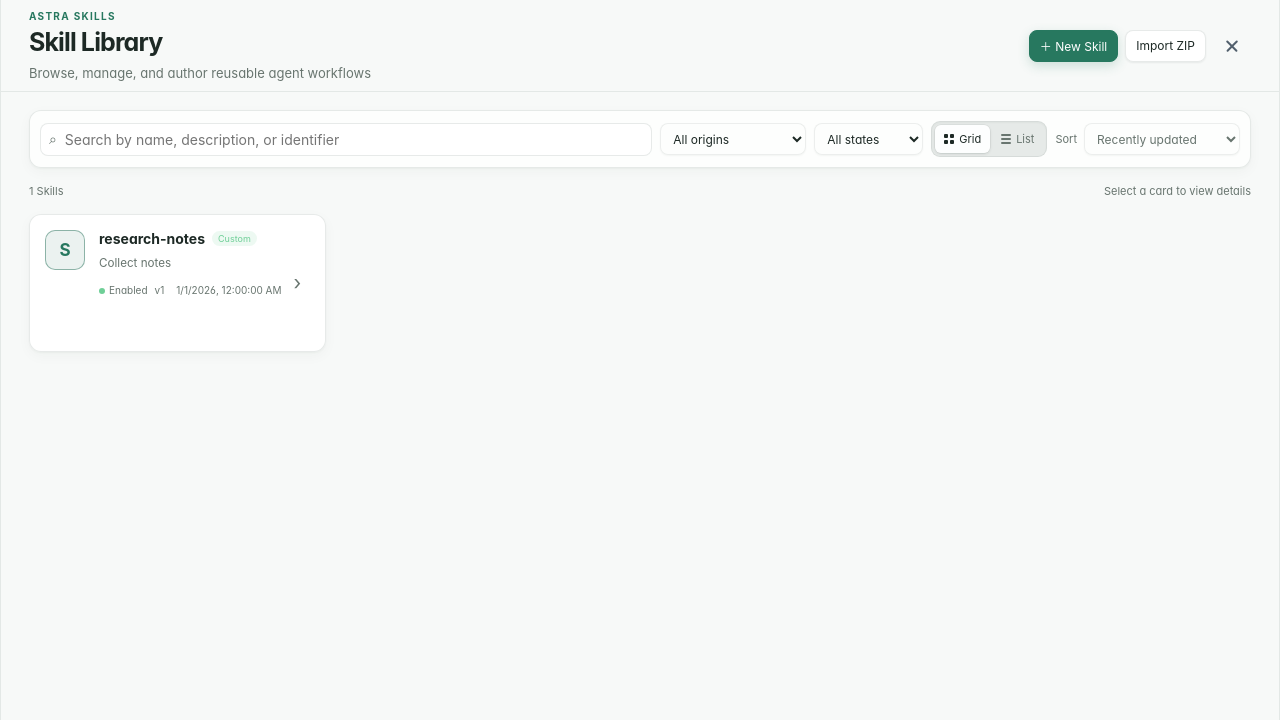
Test: SkillWorkbench › renders the complete workbench chrome in English
Expected: the heading "Skill Library" is shown, [29, 27, 162, 57]
Expected: the field named "Search skills" is shown, [57, 124, 651, 154]
What coordinates should you click on to do the following:
click the button with aria-label "List view"
I would click on:
 (1018, 139)
Its box is [992, 125, 1043, 153].
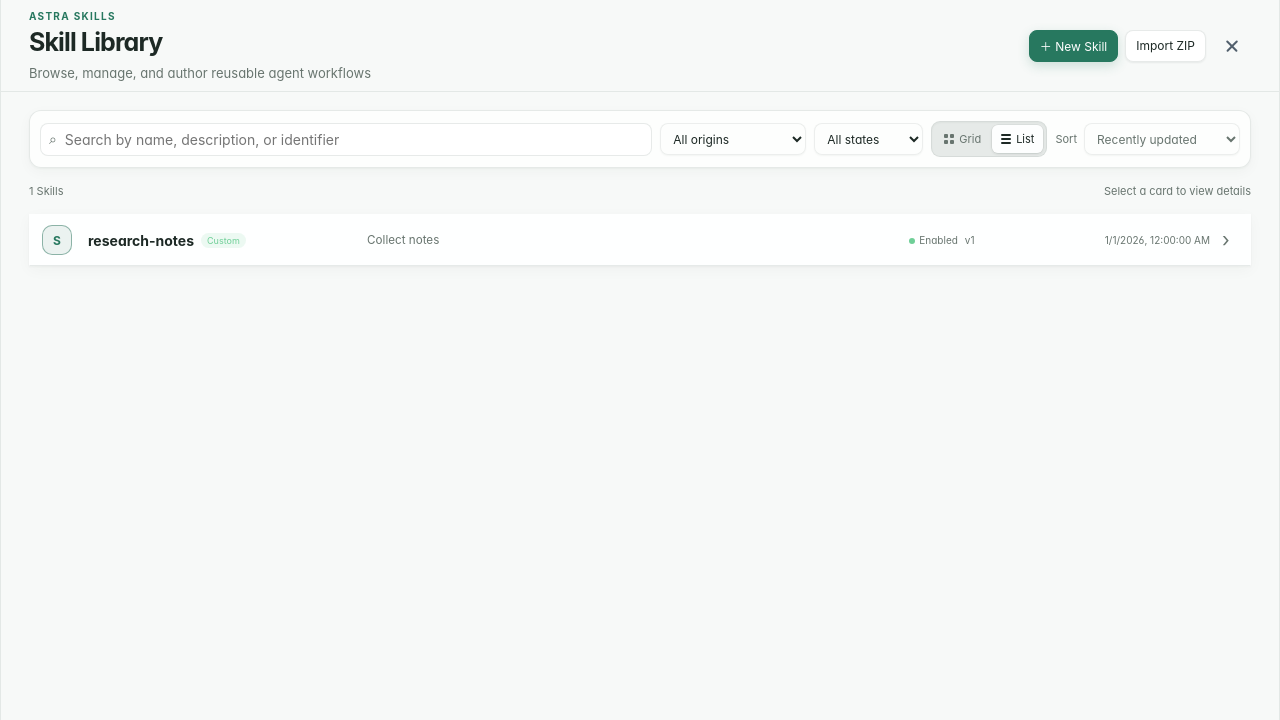
Expected: the label named "Sort by" reads "Sort", [1055, 132, 1077, 146]
Expected: the button with aria-label "List view" is pressed, [992, 125, 1043, 153]
What coordinates should you click on to do the following:
click the button "research-notes"
I would click on:
 (141, 240)
Its box is [29, 214, 1251, 266].
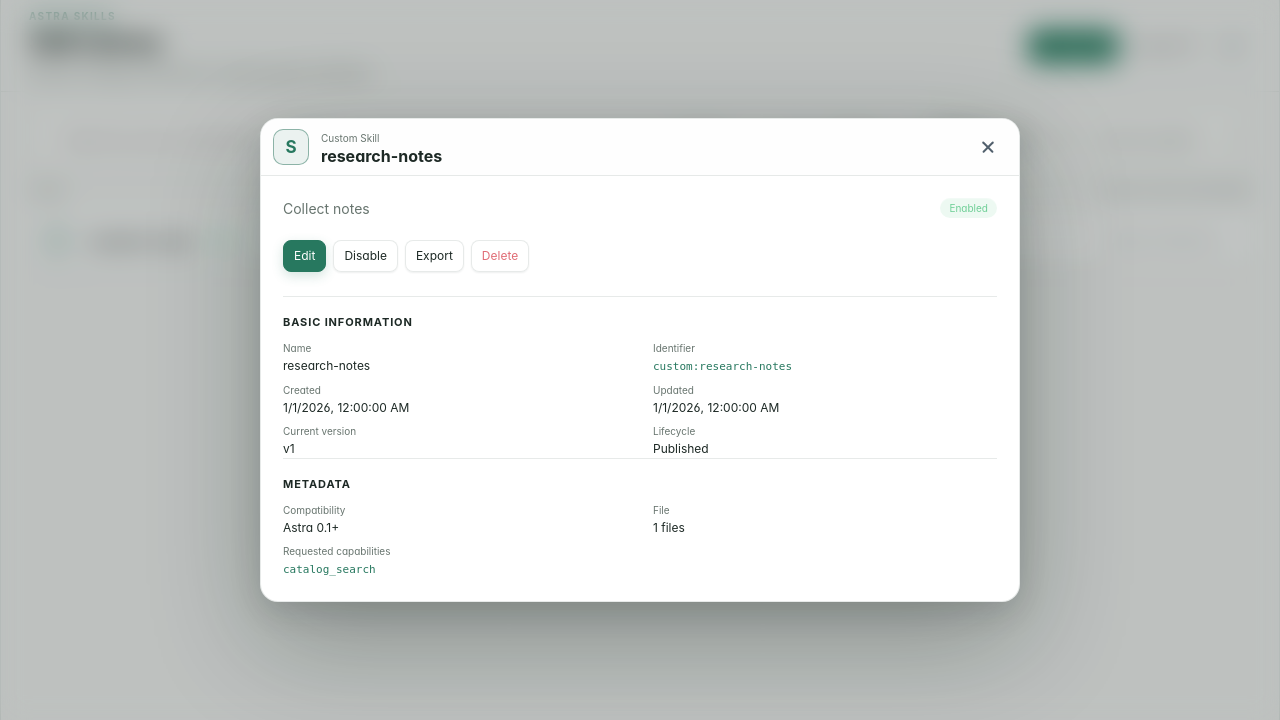
What coordinates should you click on to do the following:
click the button "Edit"
I would click on:
 (305, 256)
Its box is [283, 240, 326, 272].
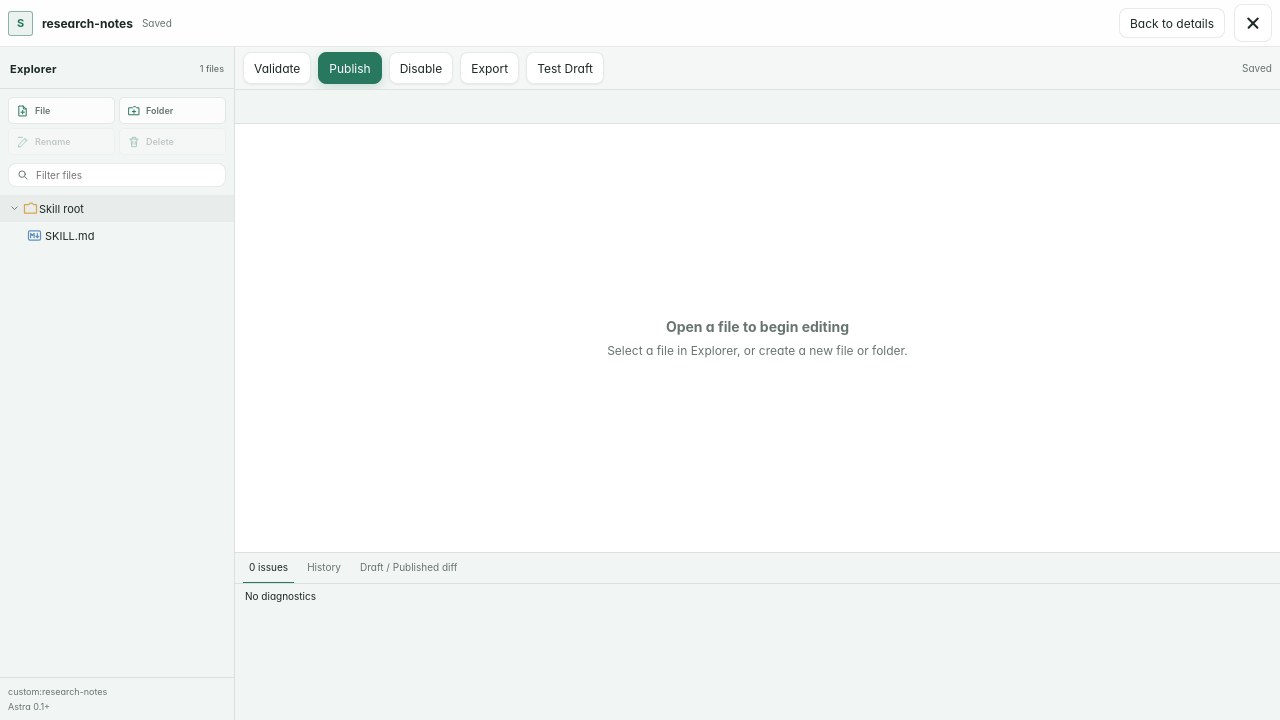
Expected: the button "Validate" is shown, [243, 52, 311, 84]
Expected: the button "Publish" is shown, [318, 52, 382, 84]
Expected: the button "0 issues" is shown, [243, 553, 294, 583]
